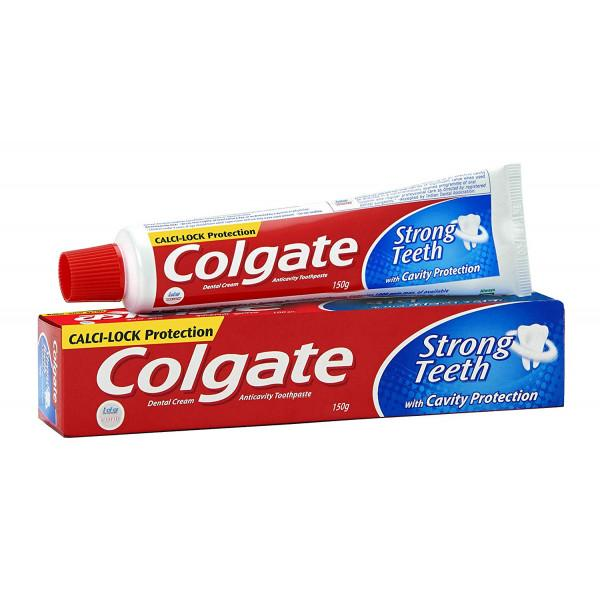toothpaste: (36, 304, 595, 452), (54, 156, 549, 312)
